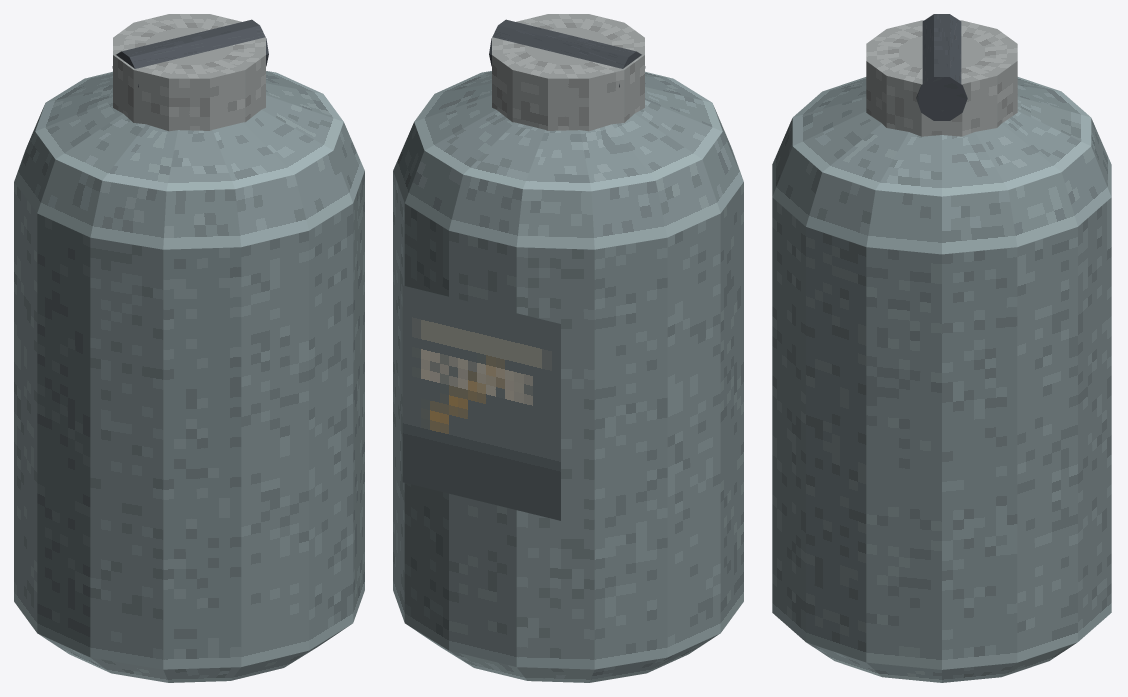
File: scuba_tank.glb
3 renders of one model, left to right at view 1: azimuth 30°, elevation 25°; view 2: azimuth 150°, elevation 25°; view 3: azimuth 270°, elevation 25°, orthographic.
Visible parts, largest first — view 1: block_gas cylinder, block_valve collar, block_external valve wheel; view 2: block_gas cylinder, block_cylinder markings, block_valve collar, block_external valve wheel; view 3: block_gas cylinder, block_valve collar, block_external valve wheel.
Part boxes in pixels (x1,y1,x2,y2): block_gas cylinder: [14, 71, 364, 682]; block_valve collar: [113, 14, 265, 131]; block_external valve wheel: [112, 19, 268, 87]; block_gas cylinder: [393, 71, 743, 682]; block_cylinder markings: [402, 285, 560, 520]; block_valve collar: [492, 14, 644, 131]; block_external valve wheel: [489, 19, 645, 87]; block_gas cylinder: [772, 77, 1111, 682]; block_valve collar: [866, 20, 1017, 136]; block_external valve wheel: [916, 14, 967, 120].
Bounding box in the file's own units: 0.3362 × 0.6181 × 0.3298.
2 materials, 2 textured.
